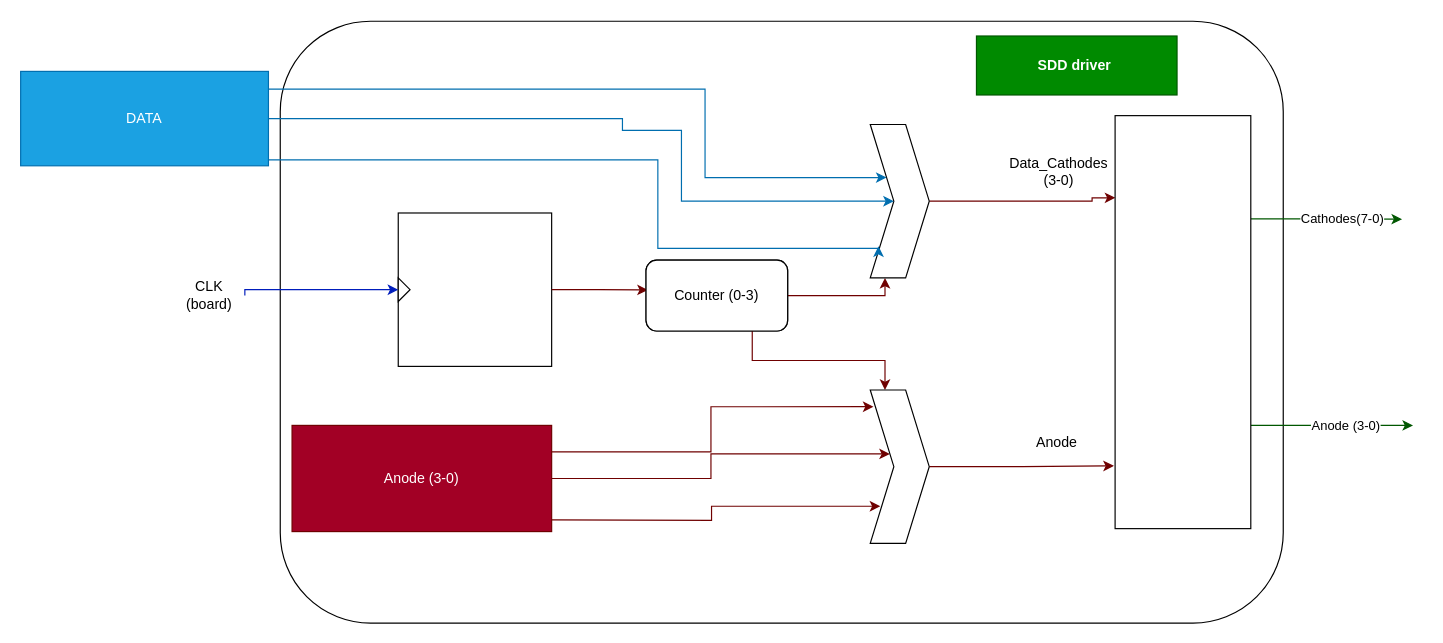
The diagram is 1443 pixels wide and 643 high, and some of its shapes have lost their labels. Here are the shapes that lost their labels. From the top down, the centre of each, then its label:
At pixel 474 289: "Freq Divider (2ms)".
At pixel 1182 321: "7segment".
